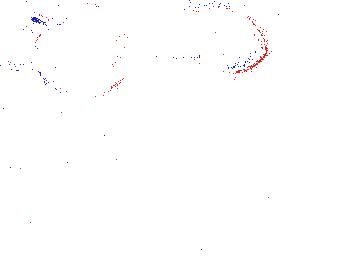moon jellyfish: (32, 1, 139, 99), (175, 5, 267, 74), (124, 1, 228, 60)
